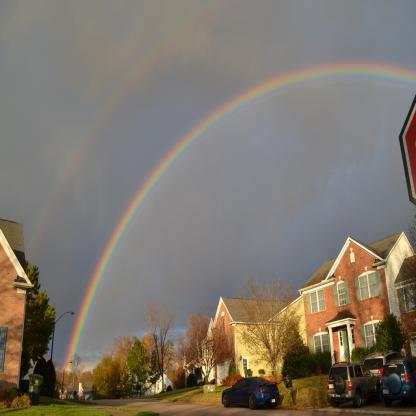Car: (222, 372, 283, 416), (325, 359, 376, 407), (381, 353, 416, 405), (365, 349, 404, 388)
